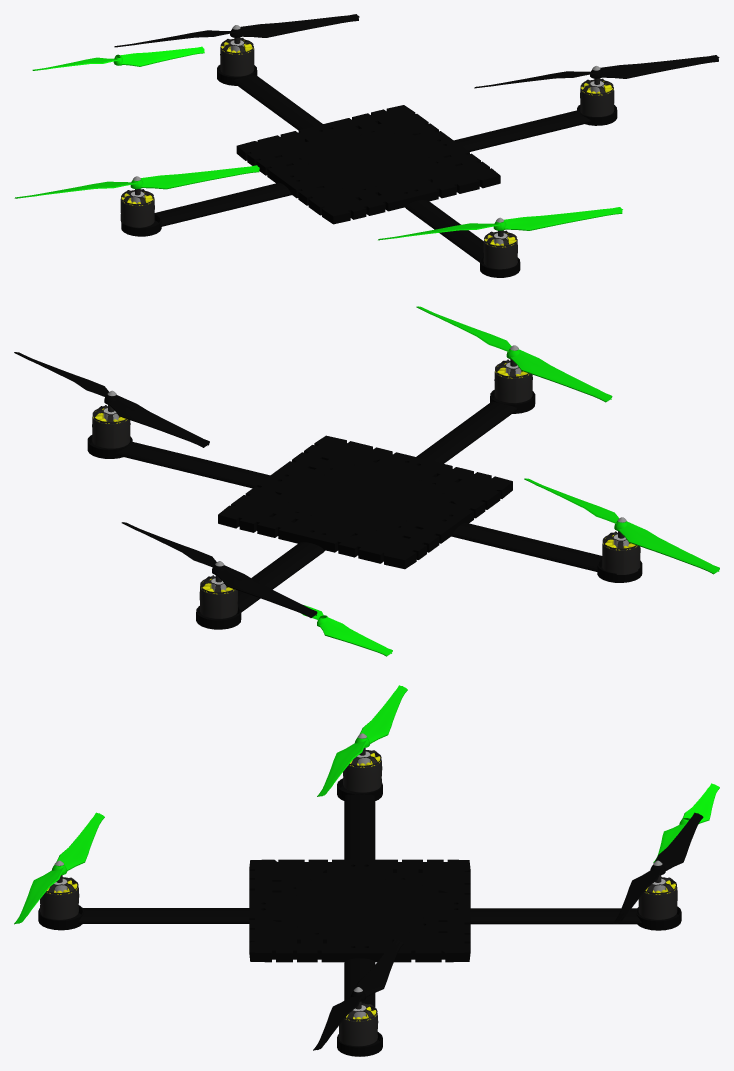
The model's file is uav_new.fbx.
3 views of the same model, one above another, from view 1: azimuth 30°, elevation 25°; view 2: azimuth 150°, elevation 25°; view 3: azimuth 270°, elevation 25° (orthographic). The views are drawn at different scales.
Parts seen in each view (by area): view 1: pCube56, pCylinder115, pCylinder116, pCylinder114, pCylinder117, polySurface88, polySurface92, polySurface90, polySurface87, polySurface39, pCylinder131, pCylinder136 (+2 smaller); view 2: pCube56, pCylinder115, pCylinder116, pCylinder114, pCylinder117, polySurface90, polySurface92, polySurface87, polySurface88, pCylinder132, pCylinder136, pCylinder134 (+2 smaller); view 3: pCube56, pCylinder117, pCylinder114, pCylinder115, polySurface87, polySurface92, polySurface90, polySurface88, pCylinder116, pCylinder131, pCylinder134, pCylinder136 (+2 smaller).
Part boxes in pixels (x1,y1,x2,y2): pCube56: [236, 105, 500, 224]; pCylinder115: [121, 182, 291, 236]; pCylinder116: [454, 104, 617, 151]; pCylinder114: [405, 200, 520, 277]; pCylinder117: [217, 65, 322, 130]; polySurface88: [378, 207, 622, 240]; polySurface92: [474, 55, 719, 88]; polySurface90: [14, 165, 259, 198]; polySurface87: [114, 14, 359, 47]; polySurface39: [32, 46, 204, 70]; pCylinder131: [220, 37, 254, 76]; pCylinder136: [580, 78, 614, 116]; pCube56: [218, 435, 512, 569]; pCylinder115: [451, 522, 642, 582]; pCylinder116: [87, 435, 269, 488]; pCylinder114: [416, 390, 535, 463]; pCylinder117: [196, 542, 325, 629]; polySurface90: [524, 478, 719, 574]; polySurface92: [14, 352, 209, 447]; polySurface87: [121, 522, 317, 617]; polySurface88: [416, 306, 612, 402]; pCylinder132: [494, 359, 532, 403]; pCylinder136: [92, 405, 130, 448]; pCylinder134: [602, 531, 640, 574]; pCube56: [249, 859, 470, 962]; pCylinder117: [470, 906, 681, 930]; pCylinder114: [38, 905, 249, 930]; pCylinder115: [337, 778, 382, 859]; polySurface87: [612, 812, 703, 923]; polySurface92: [313, 939, 403, 1050]; polySurface90: [317, 685, 407, 796]; polySurface88: [14, 812, 104, 924]; pCylinder116: [337, 958, 382, 1056]; pCylinder131: [638, 875, 677, 919]; pCylinder134: [343, 748, 382, 792]; pCylinder136: [339, 1001, 378, 1046].
Bounding box in the file's own units: 48.91 × 3.69 × 39.46.
